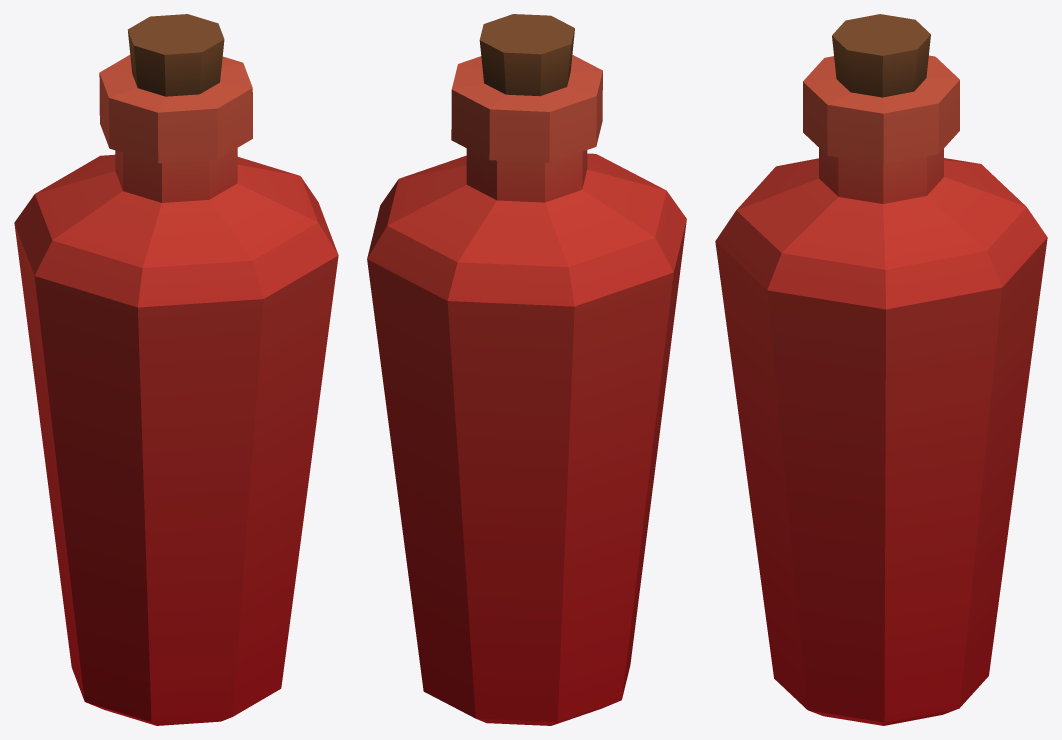
The model's file is potion_017_red.fbx.
3 views of the same model, side by side, from view 1: azimuth 30°, elevation 25°; view 2: azimuth 150°, elevation 25°; view 3: azimuth 270°, elevation 25° (orthographic).
Visible parts, largest first — view 1: potion_017_red; view 2: potion_017_red; view 3: potion_017_red.
Part boxes in pixels (box(x1,y1,x2,y2)): potion_017_red: box(14, 14, 338, 725); potion_017_red: box(367, 14, 686, 725); potion_017_red: box(715, 14, 1047, 725).
Size of the model in its own units: 0.1351 by 0.2937 by 0.1351.
